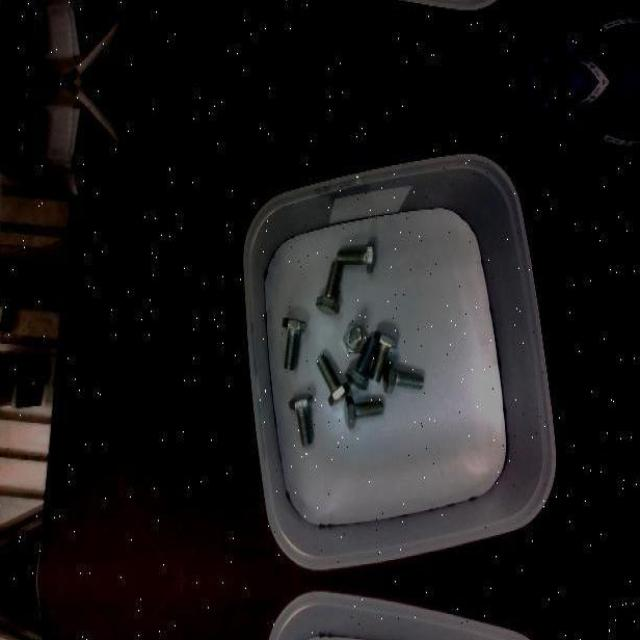screw: (345, 336, 378, 391), (316, 353, 350, 406), (370, 330, 398, 383), (315, 261, 342, 315), (382, 360, 424, 392), (288, 394, 313, 446), (343, 396, 382, 429), (282, 316, 306, 368), (337, 240, 374, 273), (342, 324, 367, 353)
